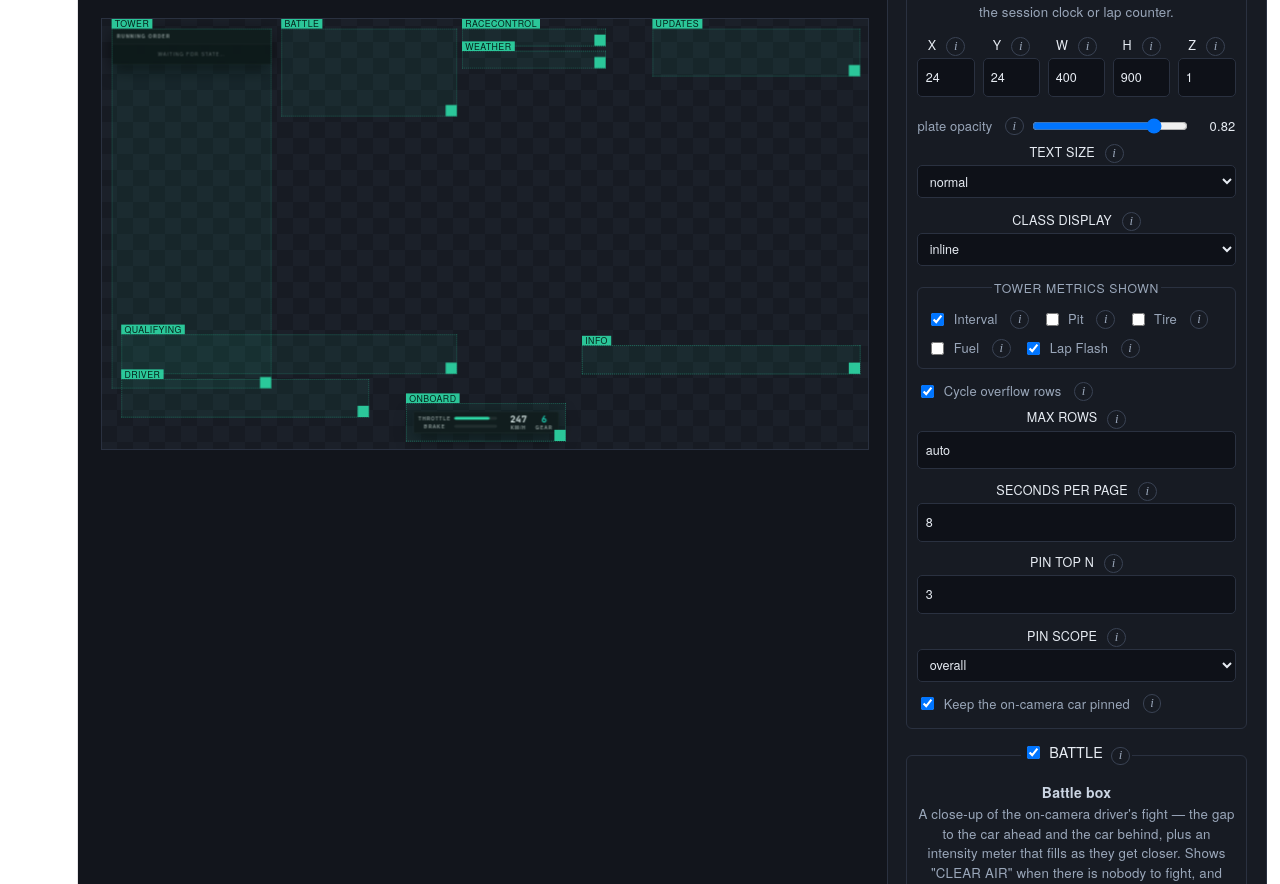
Test: ConfigPage editor wiring › coerces max-rows: a positive integer is kept, blank/garbage falls back to auto
The image size is (1280, 884).
(page scrolled)
Replace the text in the field with test id "max-rows-tower" with "12": (1076, 450) [918,431,1236,470]
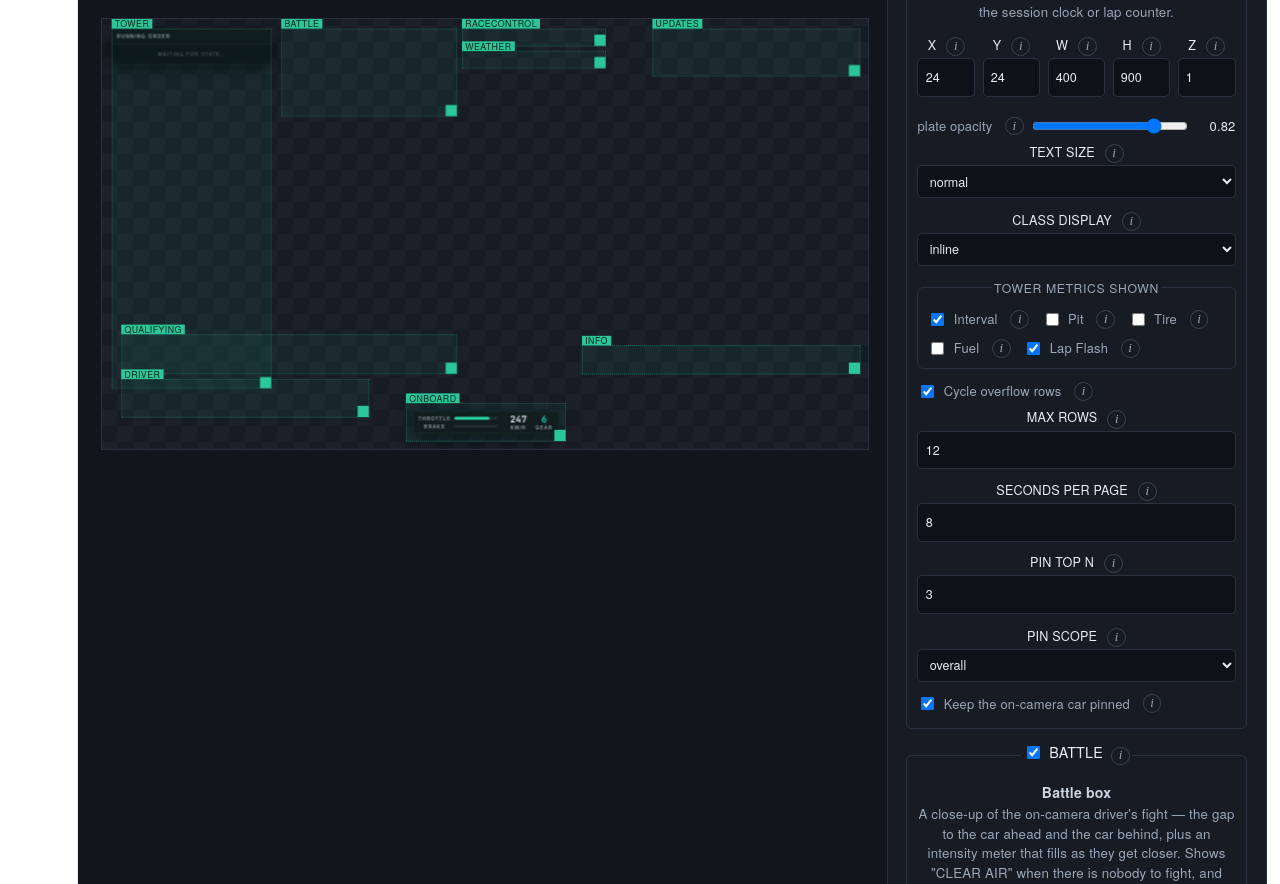
# Garbage (and 0 / negatives / blank) coerce back to 'auto', matching normalizeMaxRows.
Replace the text in the field with test id "max-rows-tower" with "abc": (1076, 450) [918,431,1236,470]
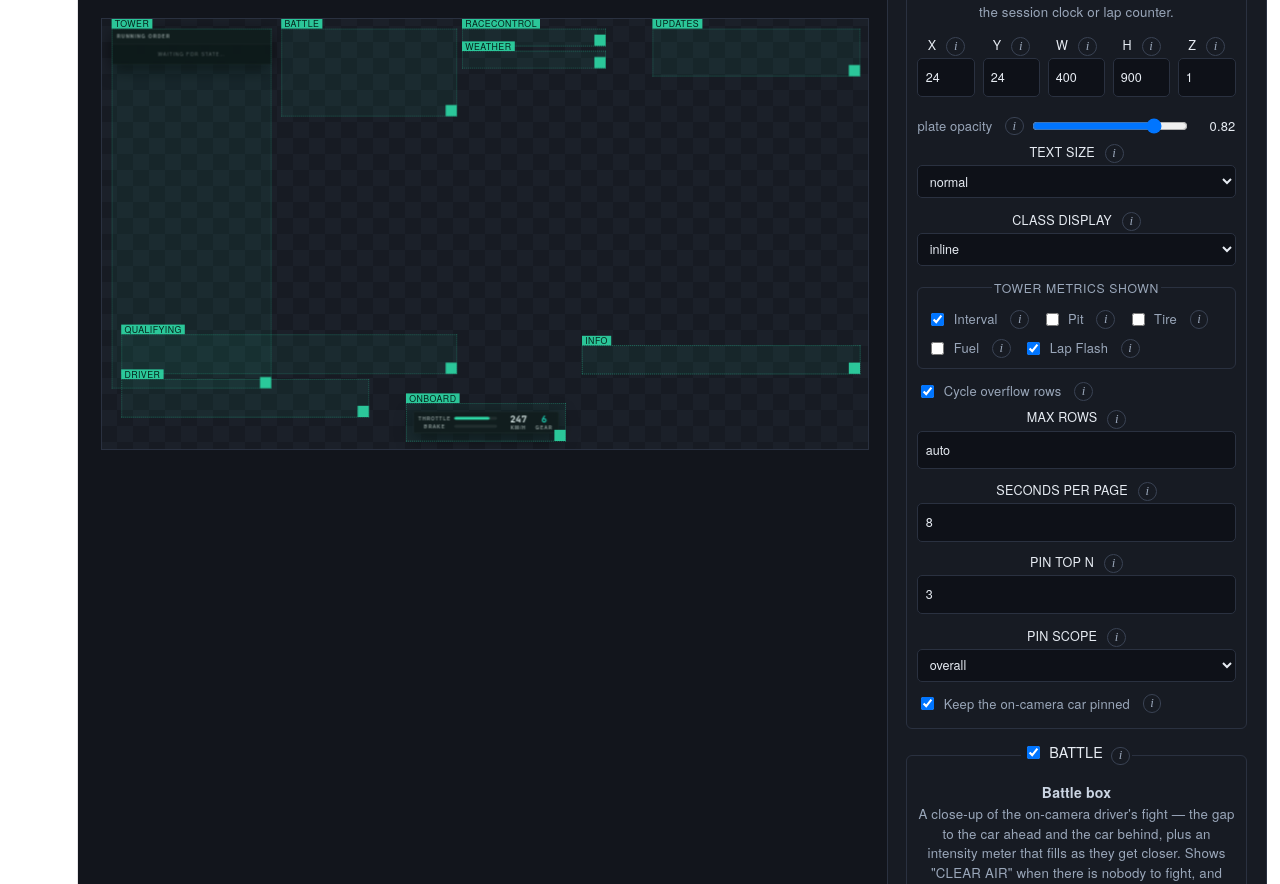
Check: the field with test id "max-rows-tower" holds "auto", box [918,431,1236,470]
